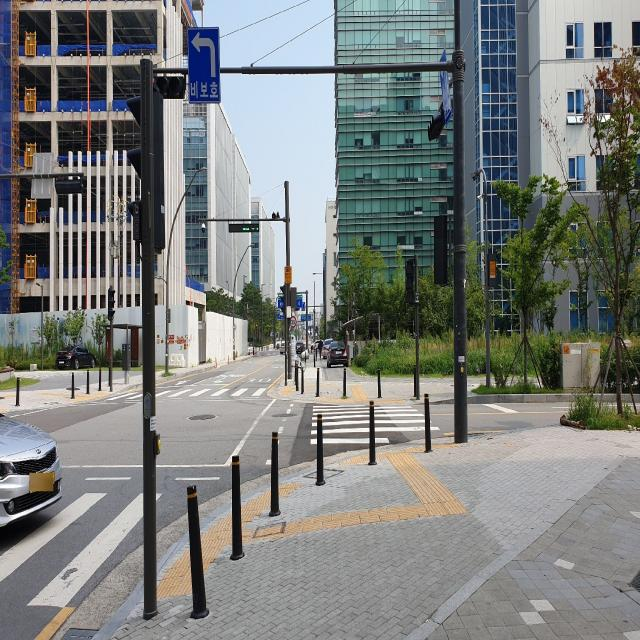횡단보도: (0, 467, 169, 618), (310, 405, 440, 444)
